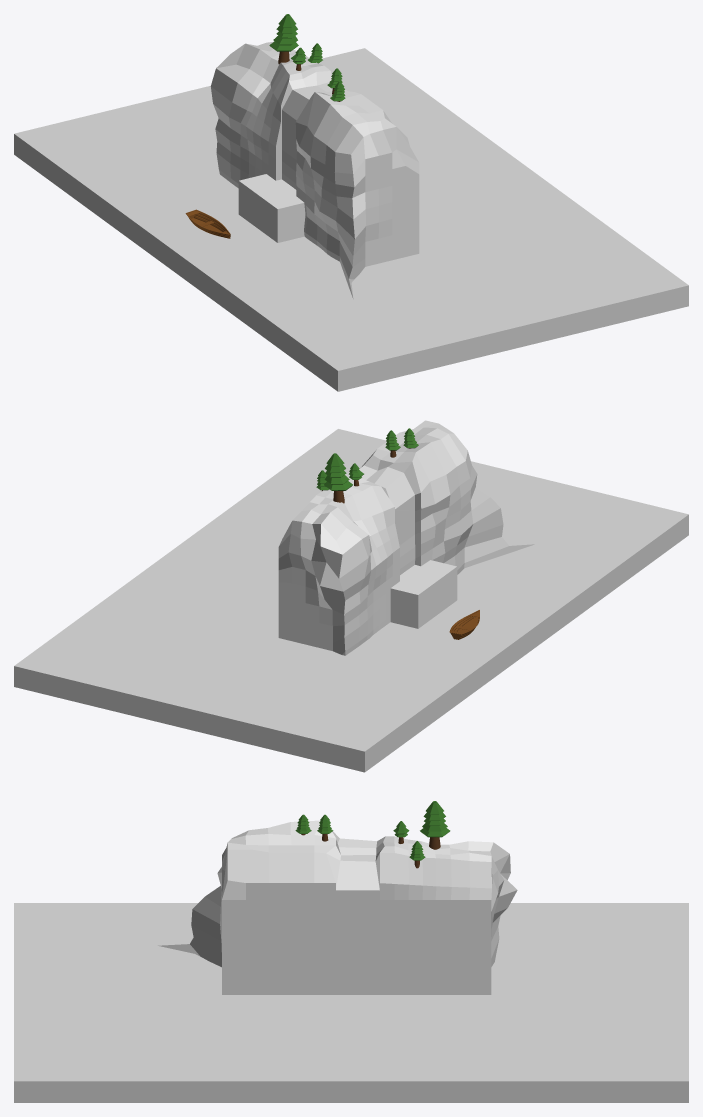
The model's file is Waterfall.fbx.
The picture shows the model from 3 angles, top to bottom: view 1: azimuth 30°, elevation 25°; view 2: azimuth 150°, elevation 25°; view 3: azimuth 270°, elevation 25°; orthographic projection. The views are drawn at different scales.
Visible parts, largest first — view 1: Plane, rock, Cube; view 2: Plane, rock, Cube; view 3: Plane, rock.
Part boxes in pixels (bbox=[...]): Plane: bbox=[14, 48, 688, 391]; rock: bbox=[210, 41, 419, 298]; Cube: bbox=[238, 174, 305, 242]; Plane: bbox=[14, 429, 688, 772]; rock: bbox=[278, 420, 534, 655]; Cube: bbox=[390, 560, 457, 628]; Plane: bbox=[14, 903, 688, 1102]; rock: bbox=[158, 820, 517, 994].
Bounding box in the file's own units: 1039 × 584 × 1662.
